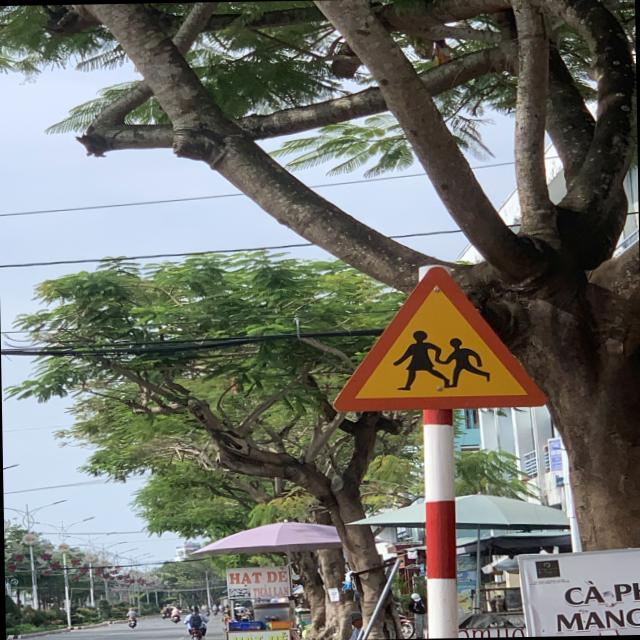Vong_Xuyen: (328, 266, 548, 410)
